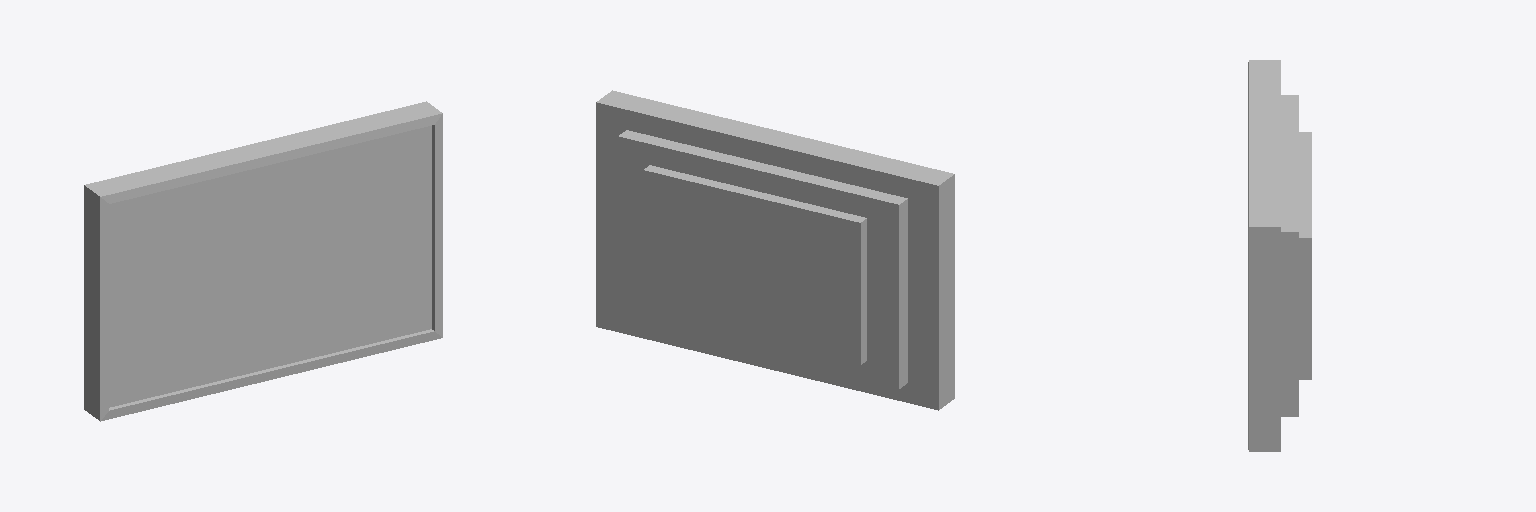
File: screen.obj
3 views of the same model, side by side, from view 1: azimuth 30°, elevation 25°; view 2: azimuth 150°, elevation 25°; view 3: azimuth 270°, elevation 25° (orthographic).
Parts seen in each view (by area): view 1: Cube; view 2: Cube; view 3: Cube.
Part boxes in pixels (bbox=[...]): Cube: bbox=[84, 101, 442, 421]; Cube: bbox=[596, 90, 954, 410]; Cube: bbox=[1248, 60, 1311, 451].
Size of the model in its own units: 0.789 by 0.4943 by 0.1278.